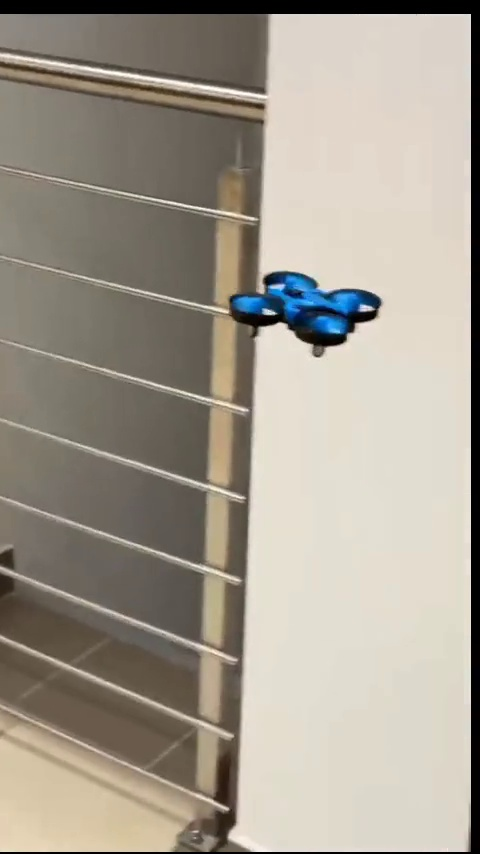drone: (231, 274, 380, 357)
